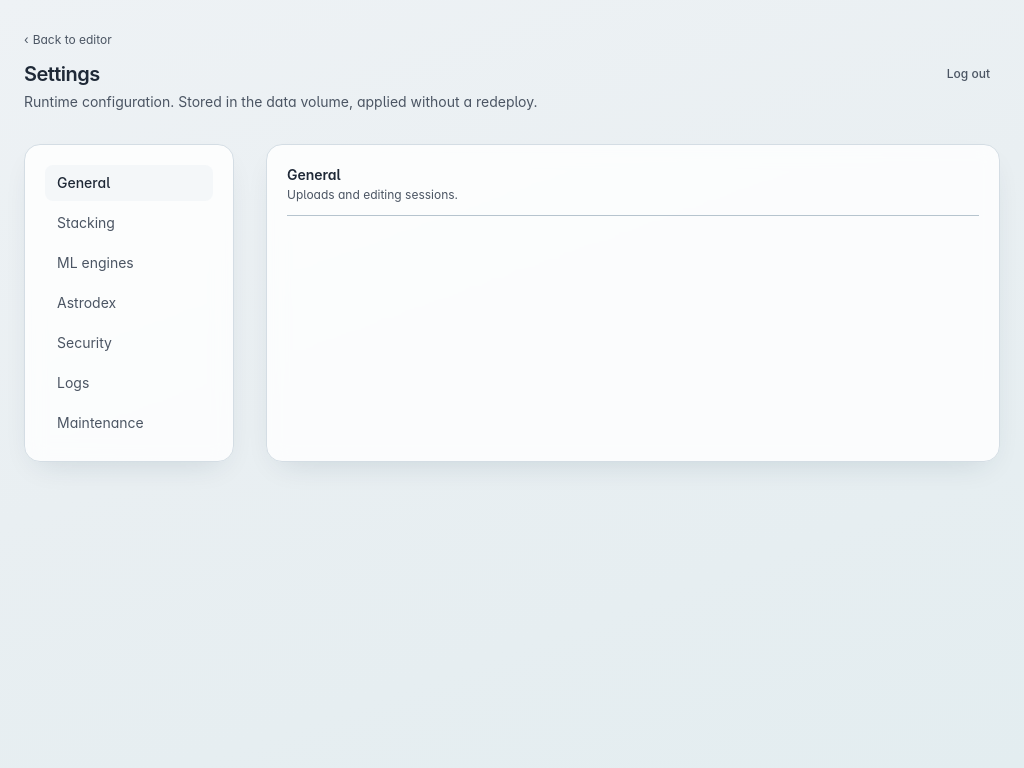
Test: SettingsView › admin gate › returns to the login form when this browser is logged out from the Security list
Click the button "Security".
click(129, 343)  # box [45, 325, 213, 361]
(page scrolled)
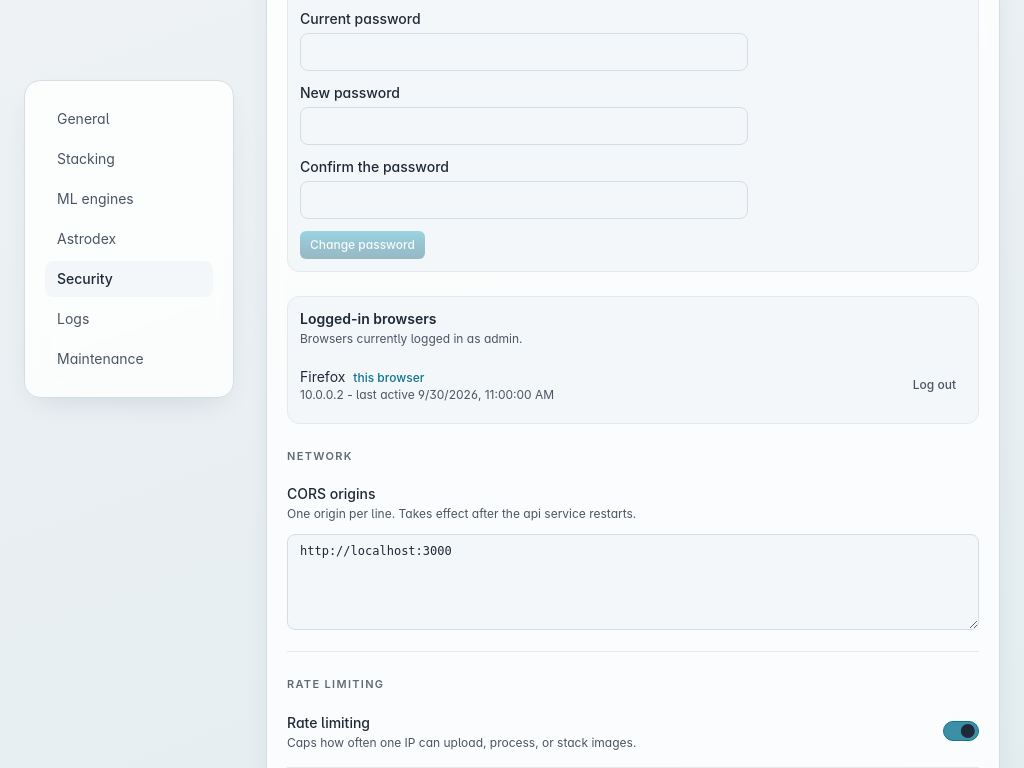
Now the text "Firefox" is shown, box [300, 368, 345, 384]
Click the button "Log out".
click(934, 384)  # box [903, 370, 966, 398]
(page scrolled)
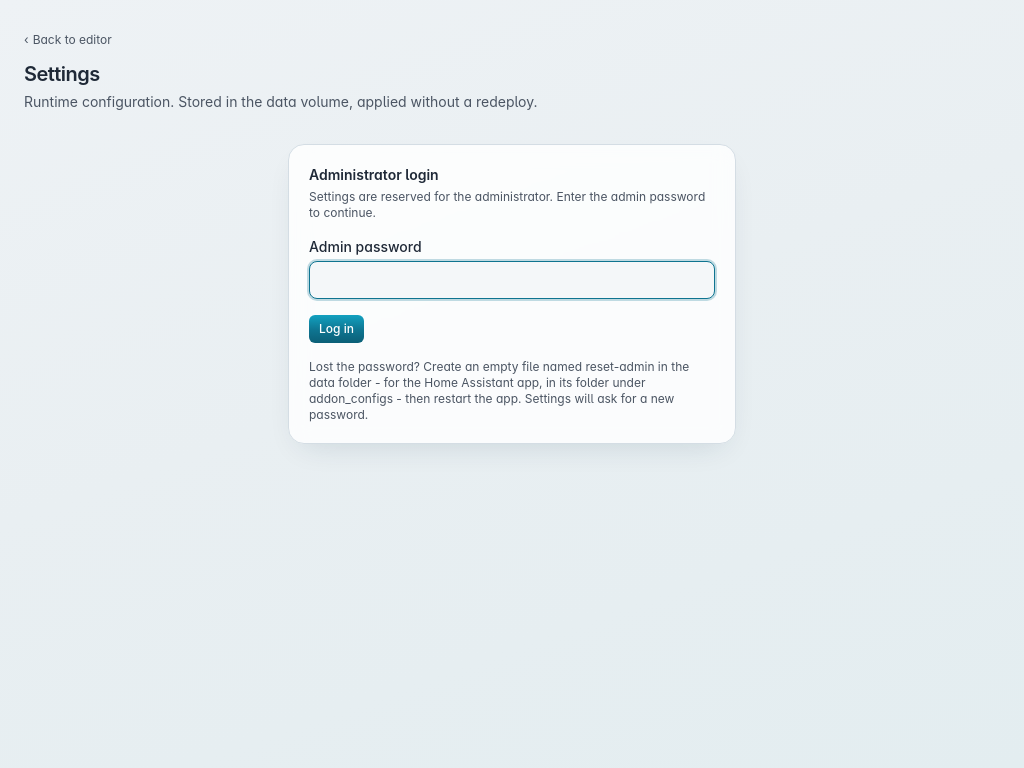
Now the heading "Administrator login" is shown, box [309, 166, 439, 183]
